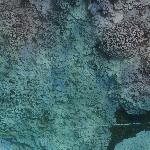dead: (1, 1, 147, 146)
